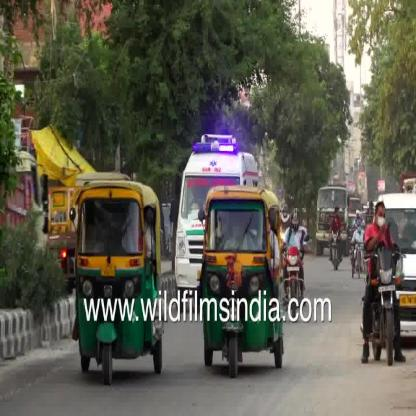priority: (180, 133, 262, 293)
